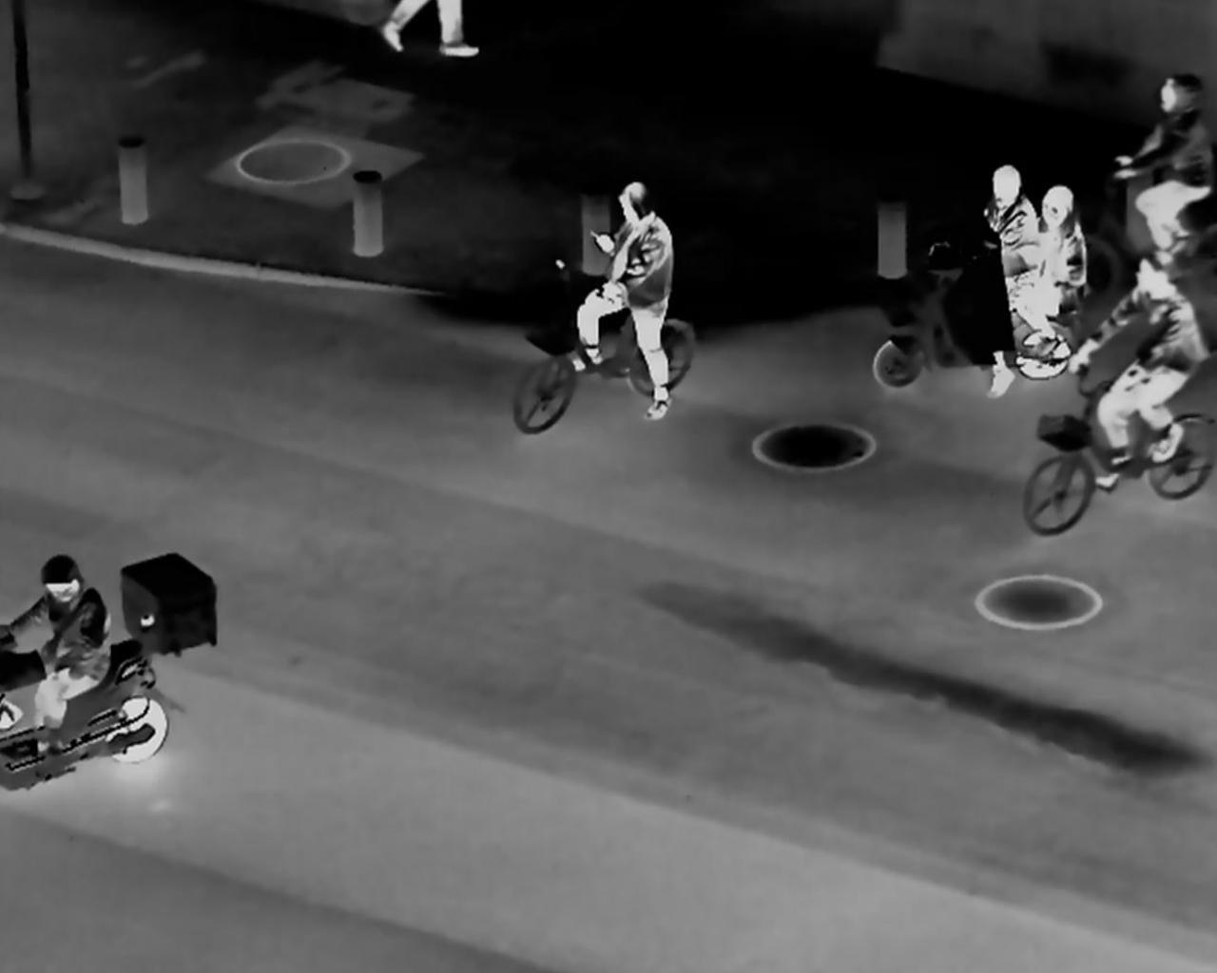person: (568, 170, 691, 420), (1079, 247, 1192, 469), (1120, 65, 1217, 254), (966, 150, 1045, 374), (21, 546, 115, 718), (1025, 175, 1088, 353)
